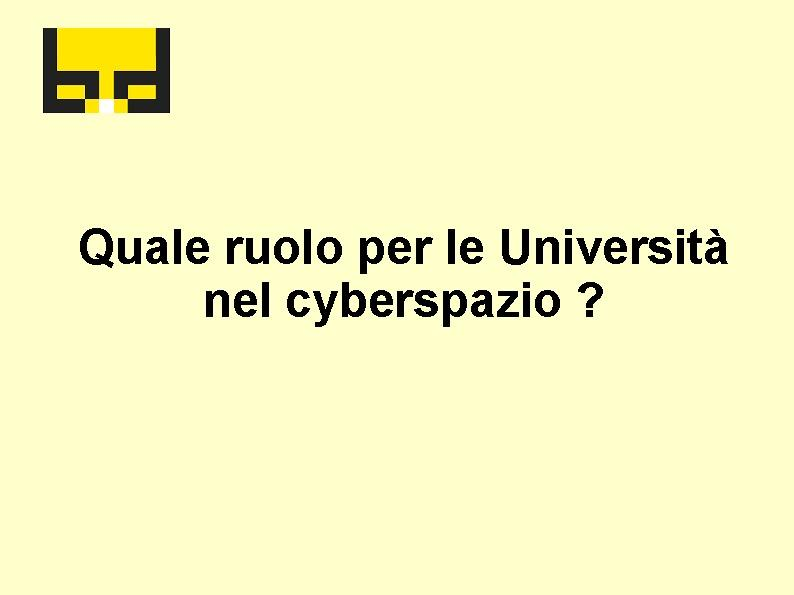title: (70, 218, 752, 331)
